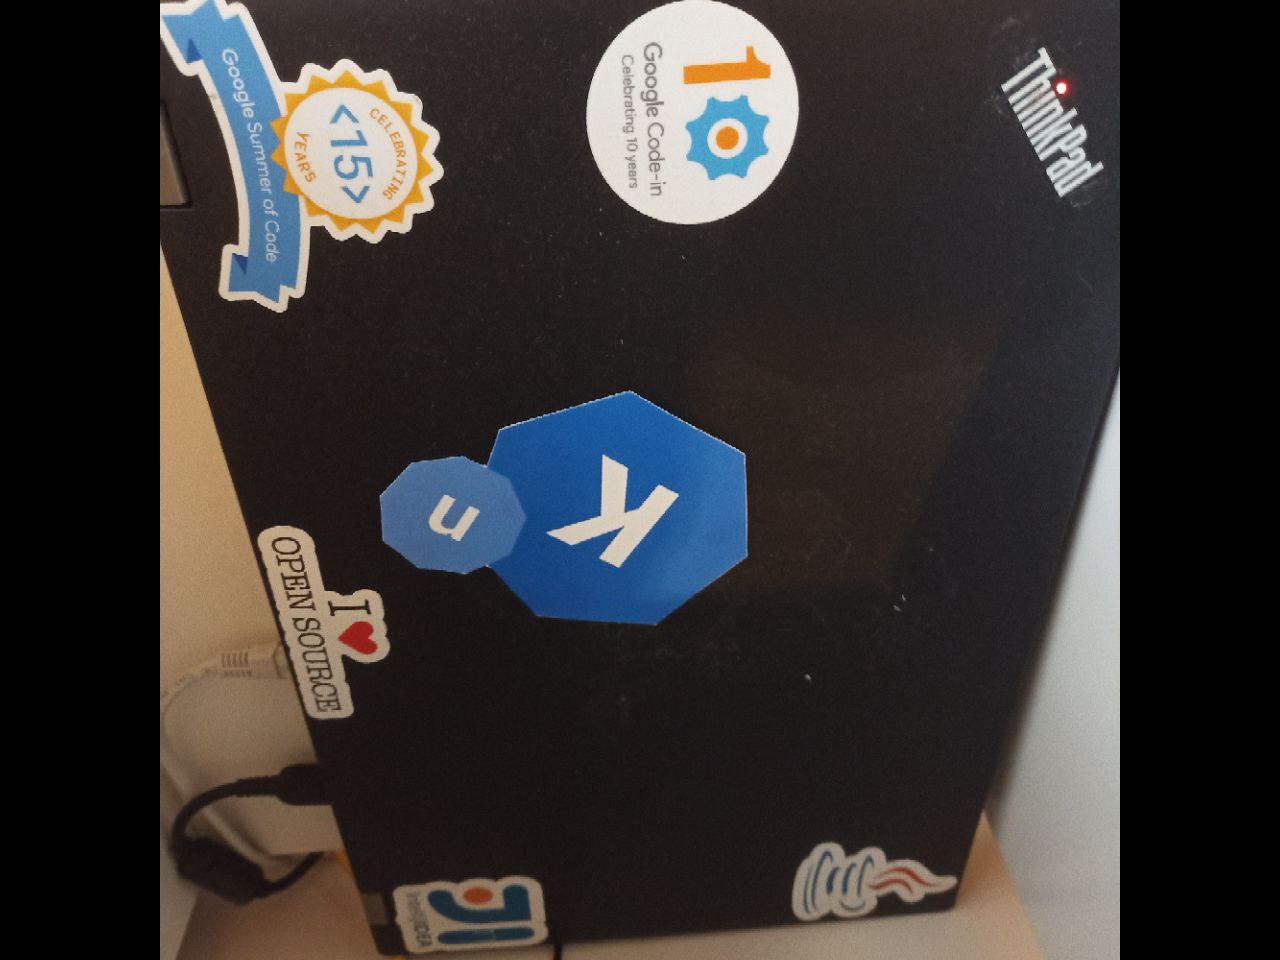knative: (379, 392, 748, 626)
